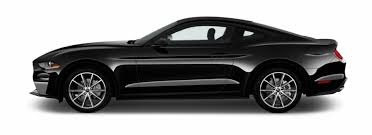bmw: (11, 7, 355, 114)
